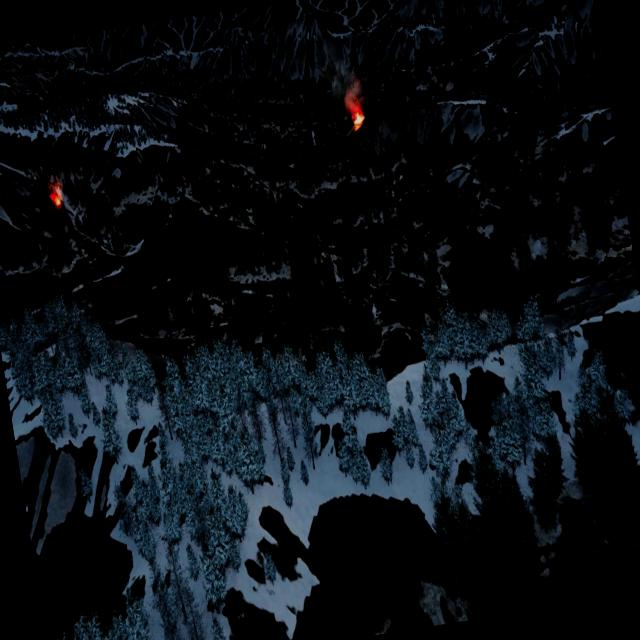fire: (49, 182, 64, 208), (352, 106, 366, 128)
smoke: (312, 35, 366, 117)
